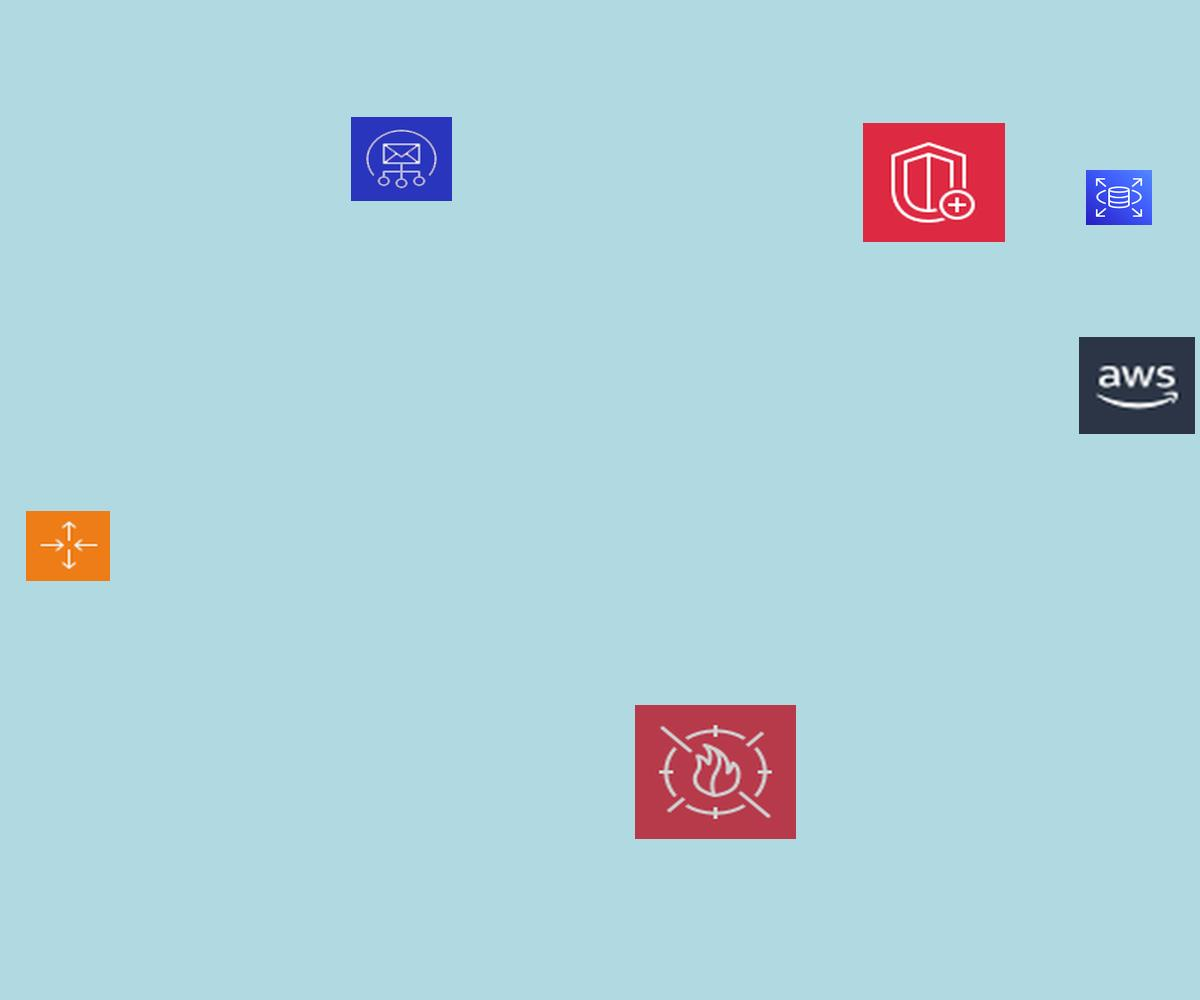AWS-Cloud-logo: (1079, 337, 1195, 434)
AWS-RDS: (1086, 170, 1152, 225)
AWS-Scaling-group: (26, 511, 110, 581)
AWS-Shield: (863, 123, 1005, 242)
AWS-Simple-Email-Service: (351, 117, 452, 201)
AWS-WAF: (635, 705, 796, 839)
